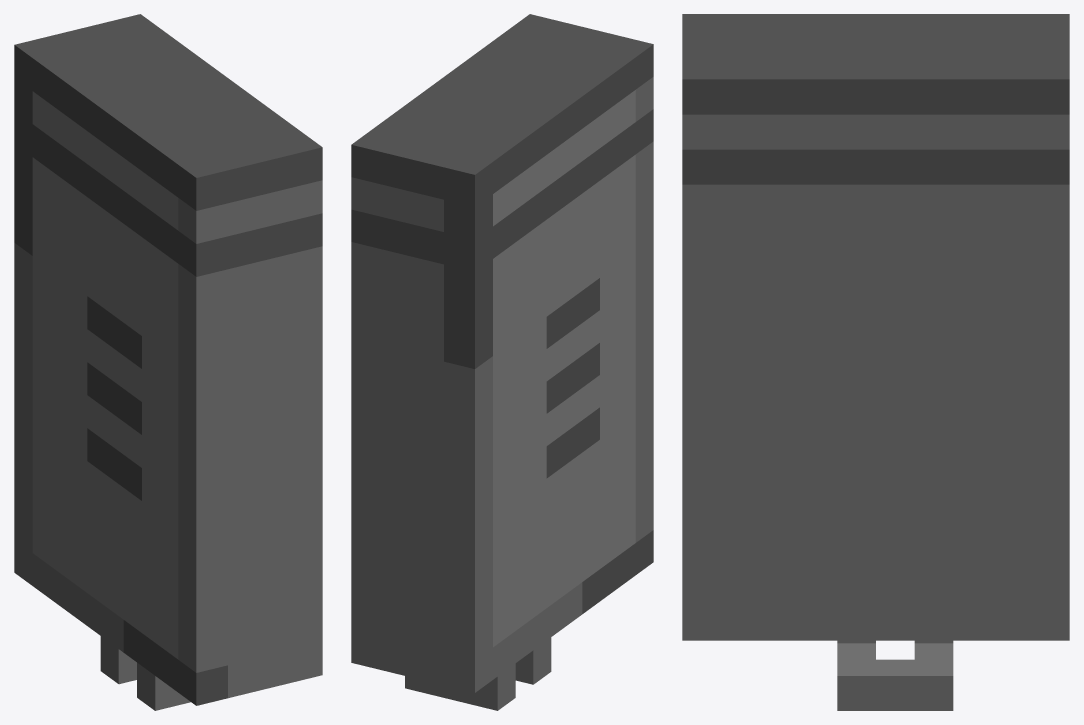
File: bigElectricBox.glb
The picture shows the model from 3 angles, left to right: view 1: azimuth 30°, elevation 25°; view 2: azimuth 150°, elevation 25°; view 3: azimuth 270°, elevation 25°; orthographic projection. The views are drawn at different scales.
Visible parts, largest first — view 1: ObjObject; view 2: ObjObject; view 3: ObjObject.
Part boxes in pixels (x1=…): ObjObject: x1=14, y1=14, x2=322, y2=710; ObjObject: x1=351, y1=14, x2=653, y2=710; ObjObject: x1=682, y1=14, x2=1069, y2=710.
Bounding box in the file's own units: 0.4 × 1.8 × 1.
Materials: 1 (1 with a texture image).
